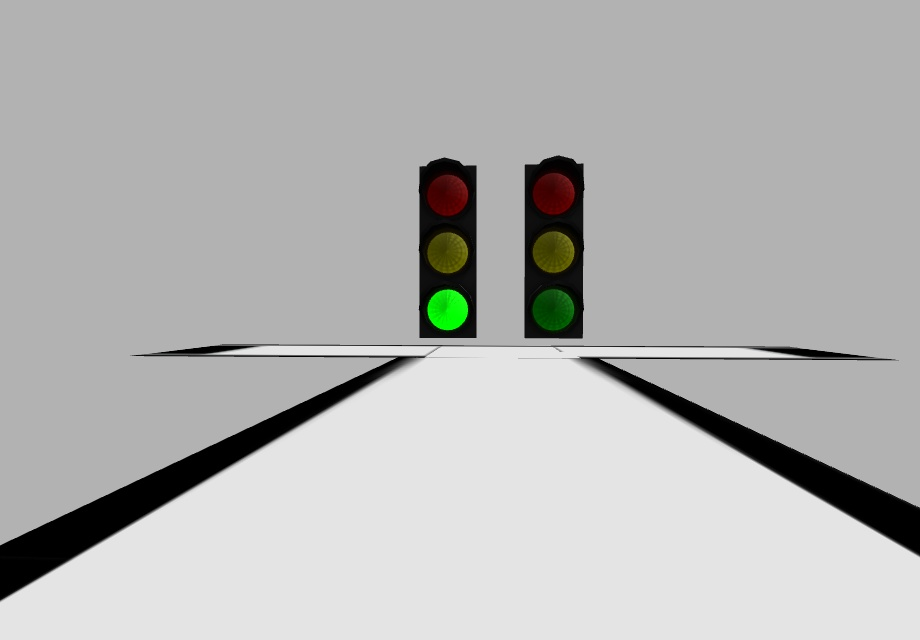green_off: (534, 289, 571, 330)
green_on: (429, 287, 468, 328)
